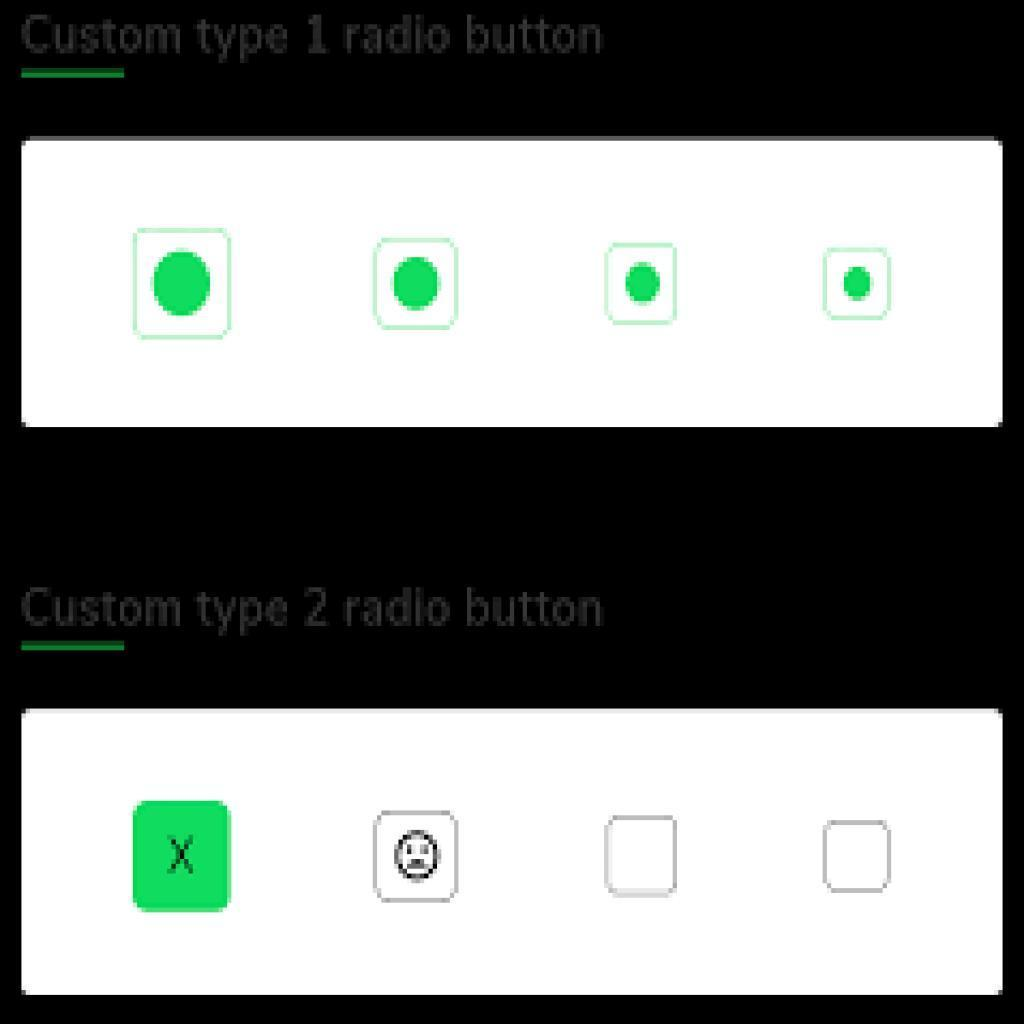icon: (377, 810, 456, 903)
label: (24, 582, 610, 638), (20, 11, 607, 61)
radio: (135, 802, 232, 912), (136, 228, 230, 339), (374, 241, 456, 330), (607, 245, 677, 325), (608, 818, 677, 899), (822, 822, 893, 892), (827, 248, 889, 323)
